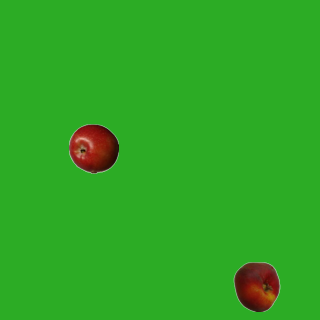Apple Braeburn: (68, 123, 118, 173)
Nectarine Flat: (231, 261, 281, 311)
